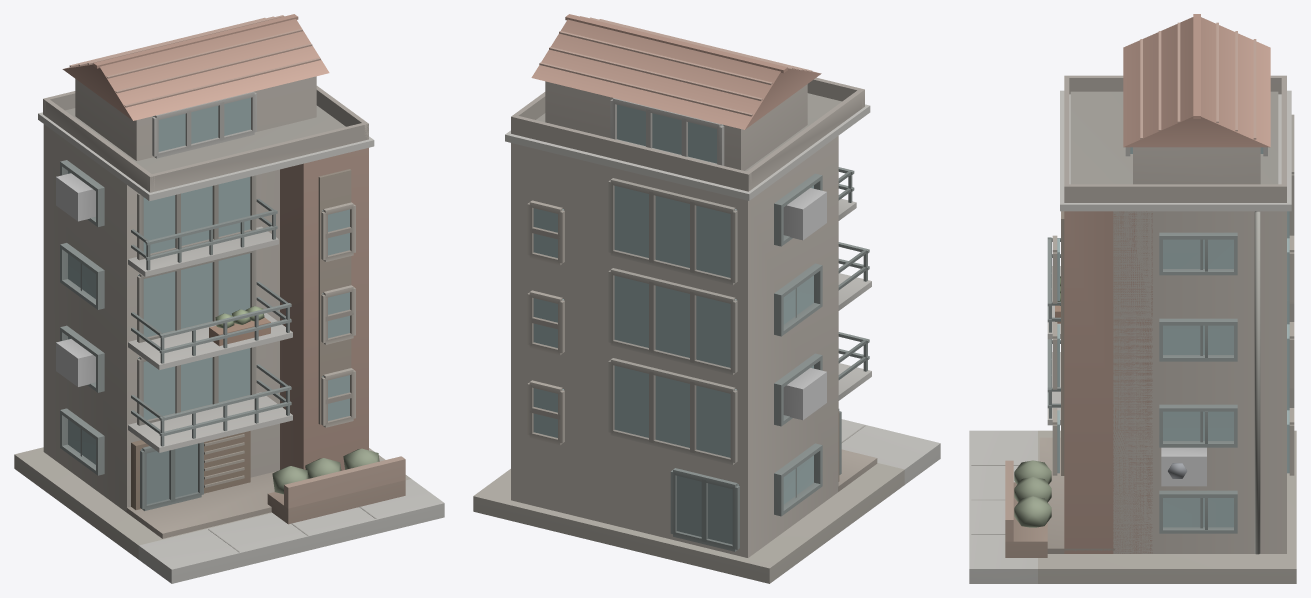
File: house-terrace.glb
The picture shows the model from 3 angles, left to right: view 1: azimuth 30°, elevation 25°; view 2: azimuth 150°, elevation 25°; view 3: azimuth 270°, elevation 25°; orthographic projection. The views are drawn at different scales.
Parts seen in each view (by area): view 1: house-terrace; view 2: house-terrace; view 3: house-terrace.
Part boxes in pixels (x1,y1,x2,y2): house-terrace: [14, 14, 444, 583]; house-terrace: [473, 14, 940, 583]; house-terrace: [969, 14, 1296, 583].
Bounding box in the file's own units: 1 × 1.51 × 1.
